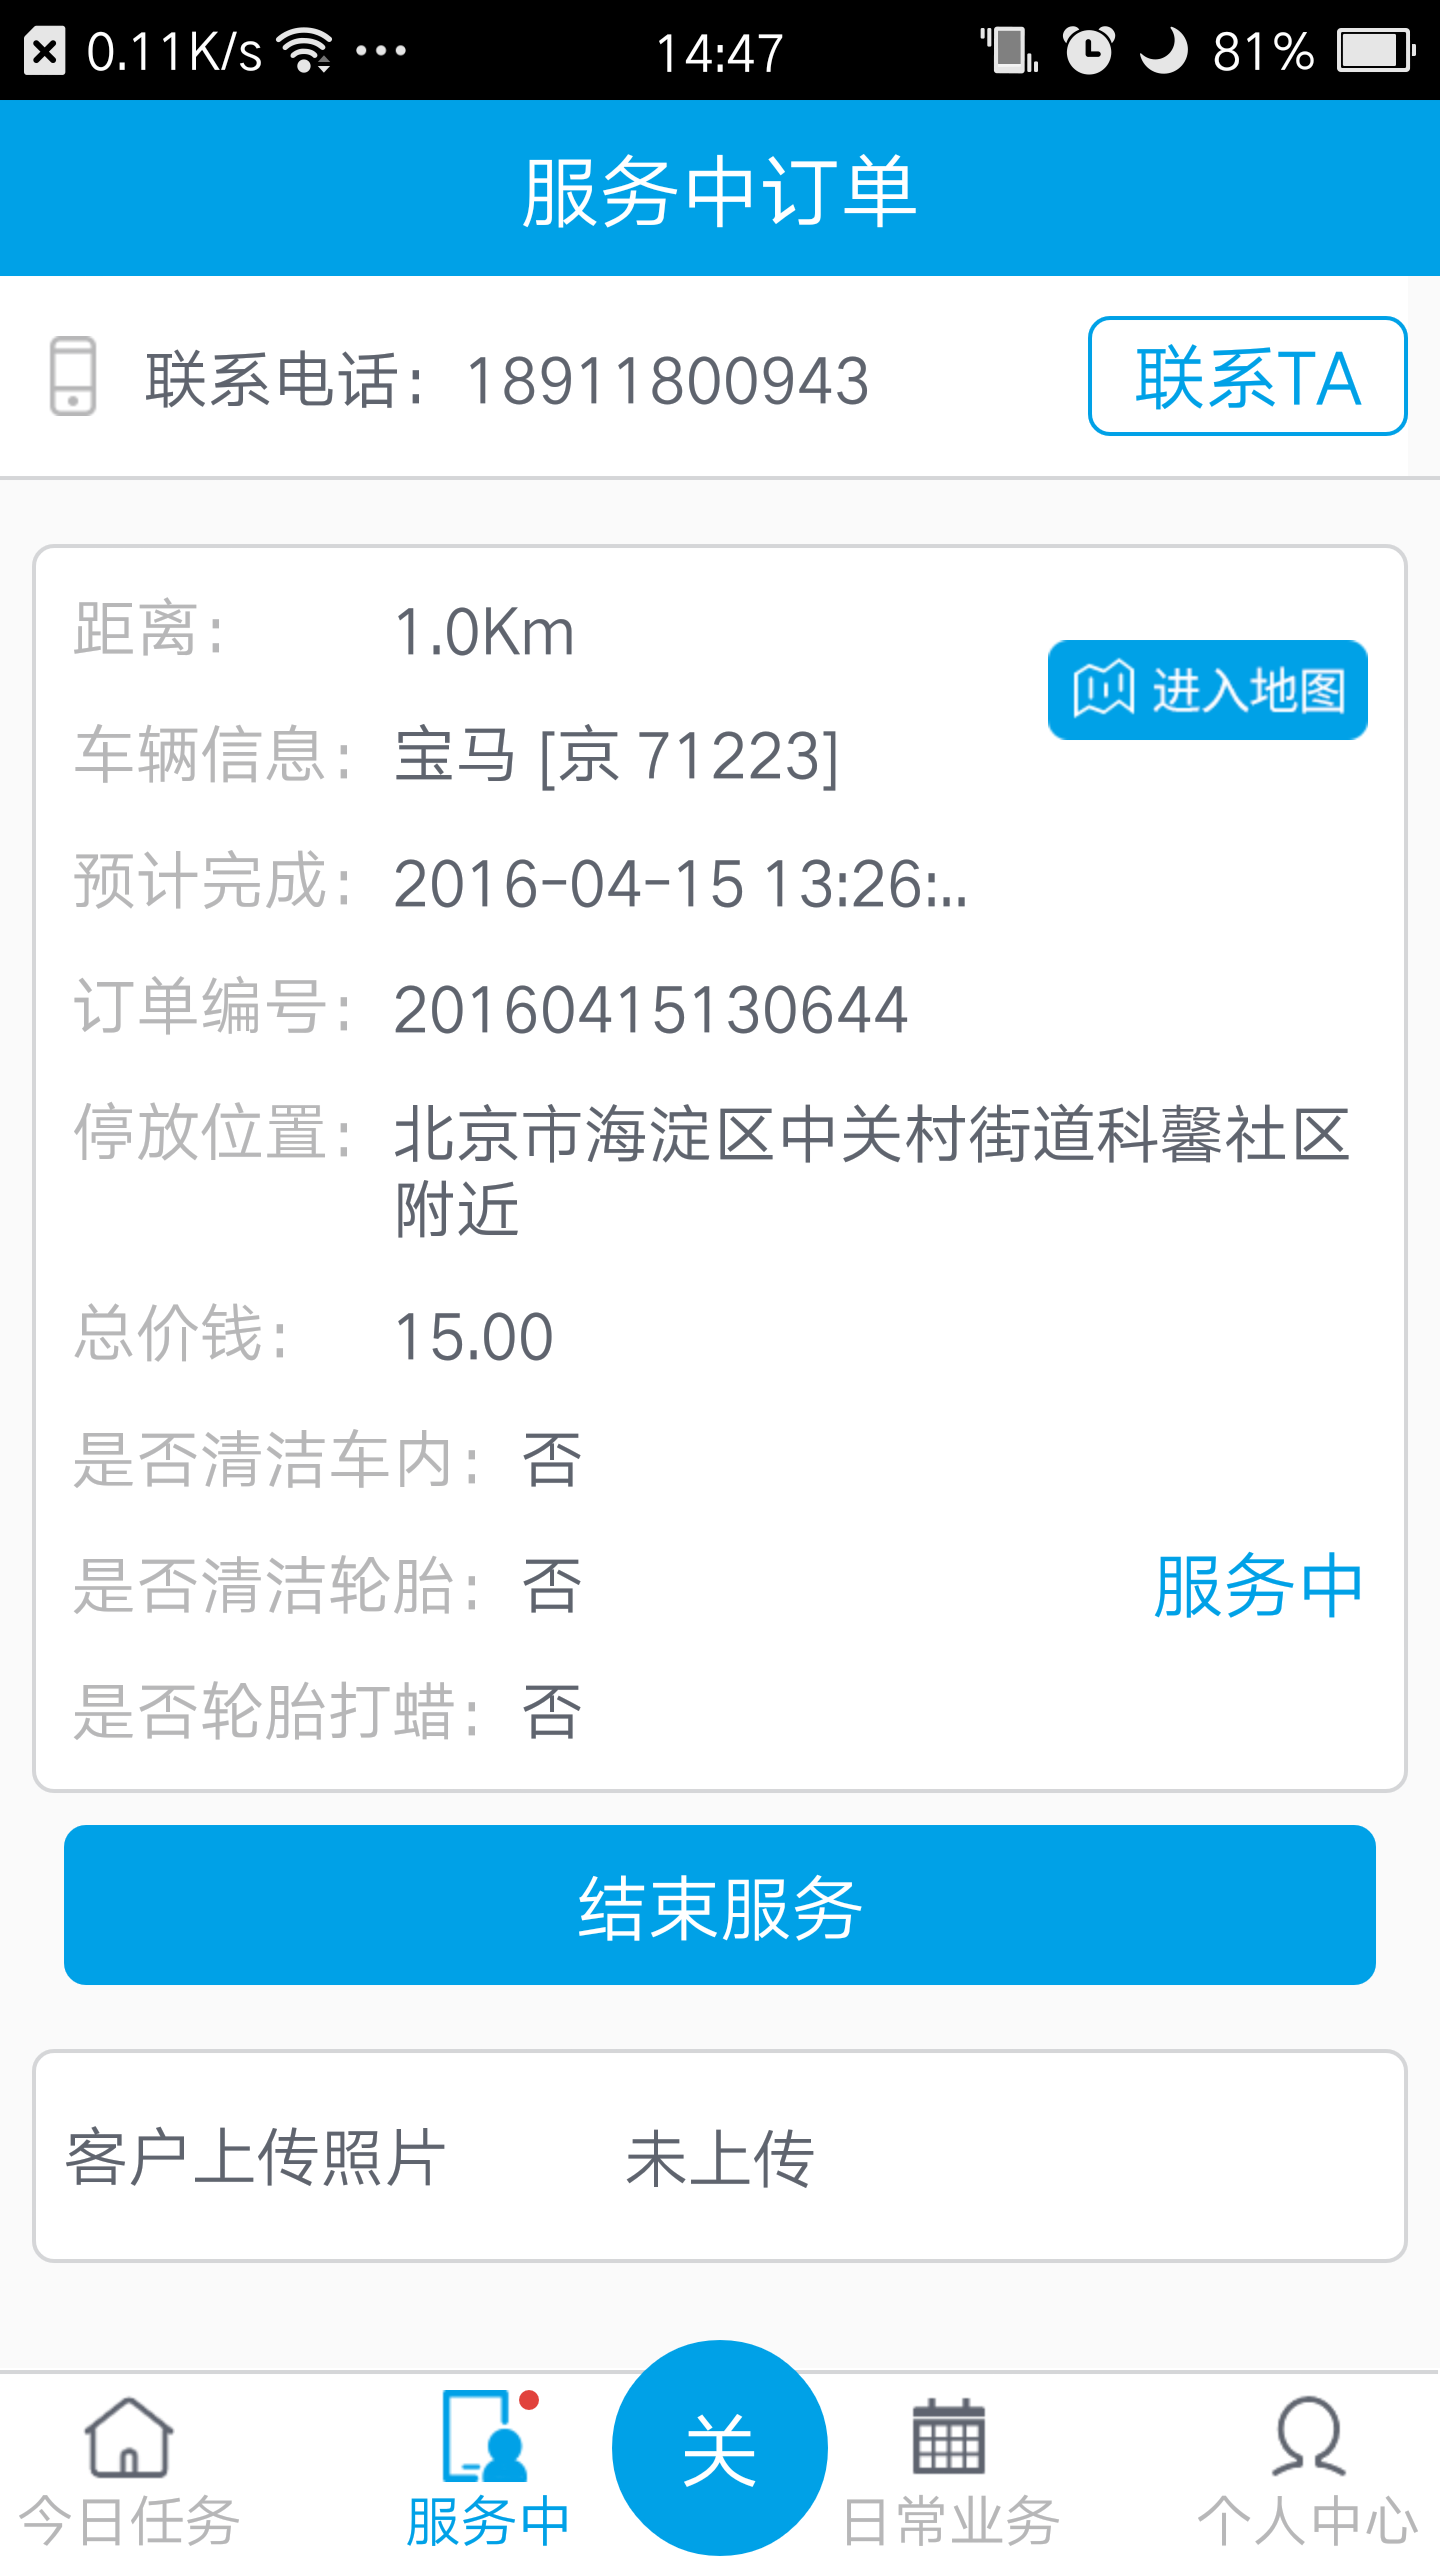button: (53, 1802, 1387, 2001), (1067, 306, 1422, 448)
textview: (18, 529, 1414, 1806)
